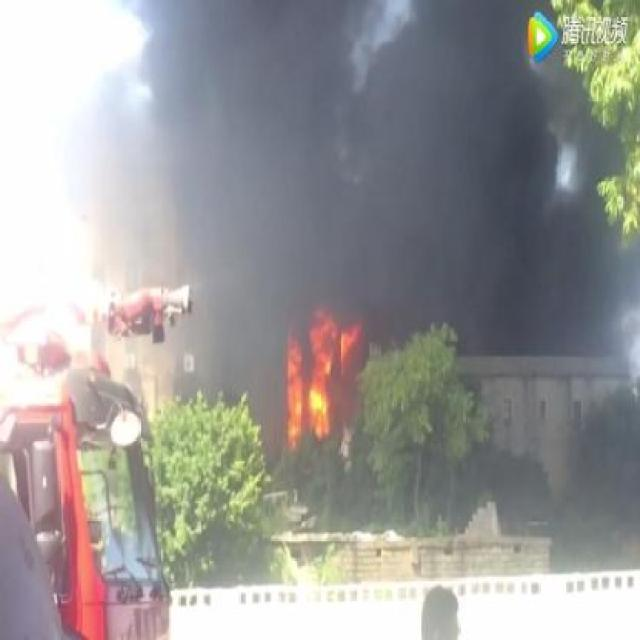Fire: (279, 304, 364, 456)
Smoke: (143, 0, 537, 304), (547, 202, 640, 352), (193, 300, 283, 416)
